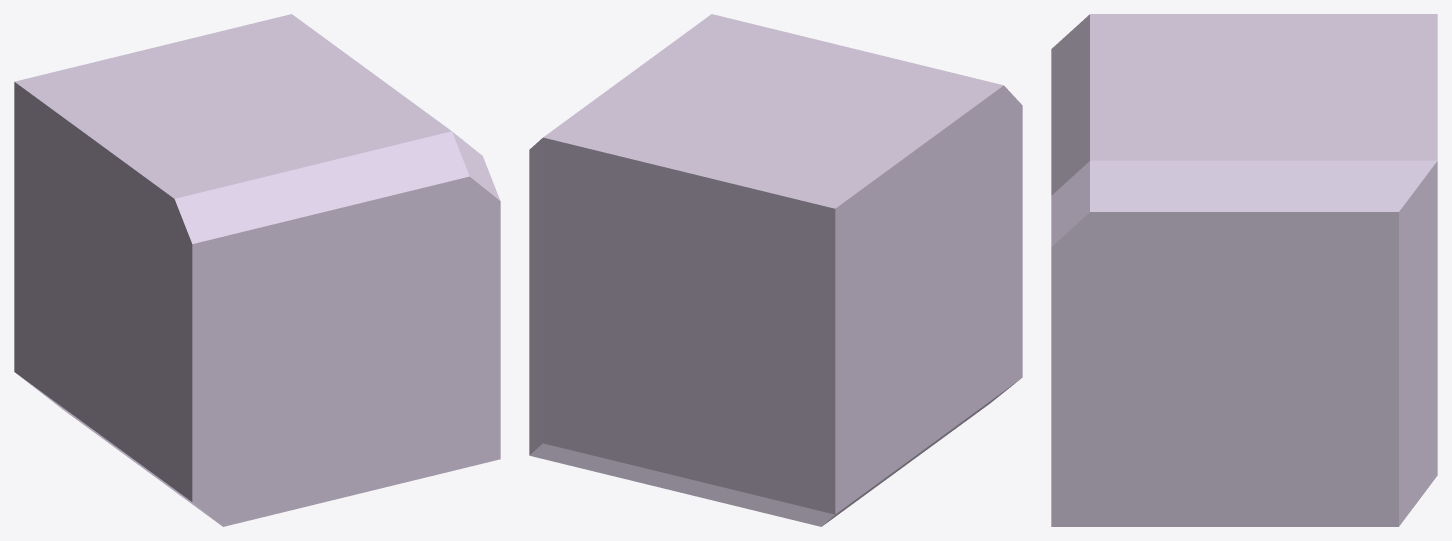
File: salt-rare.glb
3 views of the same model, side by side, from view 1: azimuth 30°, elevation 25°; view 2: azimuth 150°, elevation 25°; view 3: azimuth 270°, elevation 25° (orthographic). The views are drawn at different scales.
Visible parts, largest first — view 1: Cube; view 2: Cube; view 3: Cube.
Part boxes in pixels (left/top/right/bottom): Cube: left=14, top=14, right=500, bottom=526; Cube: left=529, top=14, right=1022, bottom=526; Cube: left=1051, top=14, right=1437, bottom=526.
Bounding box in the file's own units: 1 × 1 × 1.
